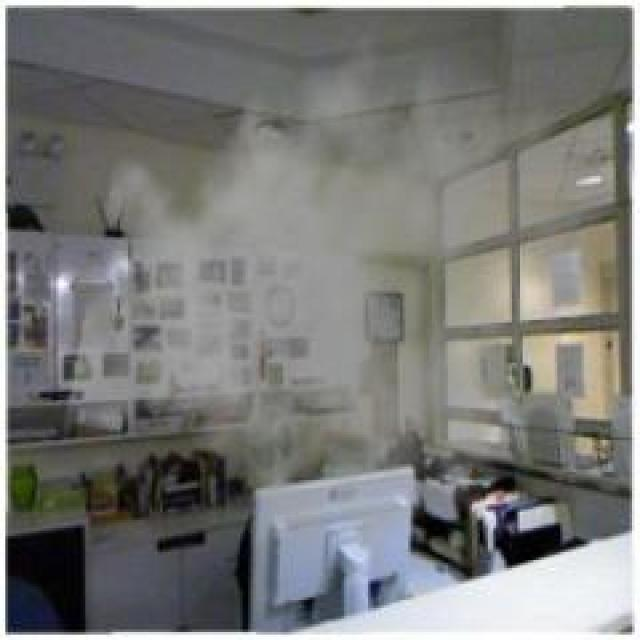smoke: (62, 10, 606, 578)
